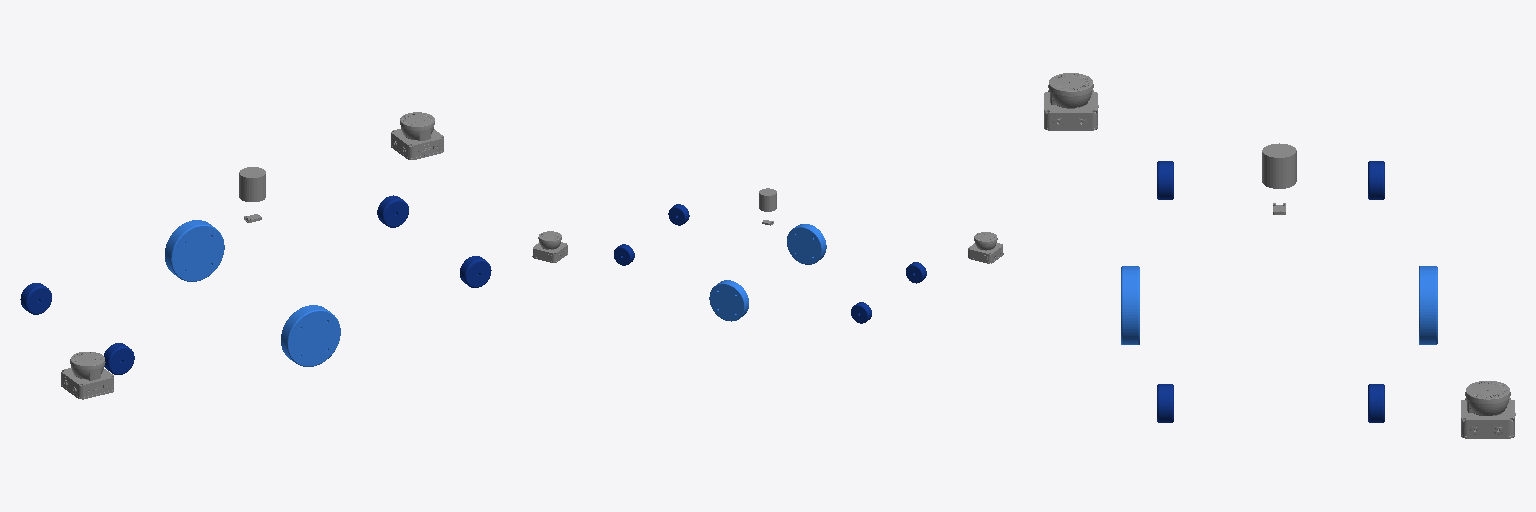
URDF robot description (my_robot_description):
<?xml version="1.0" encoding="utf-8"?>
<!-- dev_2.urdf: Corrected according to exact diagram & prompt specifications:
       - Total Length (L): 1380 mm -> x = +-0.690 m
       - Total Width (B):  790 mm  -> y = +-0.395 m
       - Drive wheel track width (left_wheel <-> right_wheel)   : 600 mm -> y = +-0.300 m
       - Idler wheel track width (left_idler <-> right_idler)   : 400 mm -> y = +-0.200 m
       - Drive-wheel centerline -> front/back idlers (x offset) : 500 mm -> x = +-0.500 m
       - Diagonal Lidars:
           * Front Lidar (Top-Left corner)    : x = +0.690 m, y = +0.395 m
           * Back Lidar  (Bottom-Right corner) : x = -0.690 m, y = -0.395 m
     Meshes rotated rpy="1.5708 0 0" (STL Y-up -> ROS Z-up).
-->
<robot name="my_robot_description">

  <!-- ================= MATERIAL DEFINITIONS ================= -->
  <material name="white">
    <color rgba="1 1 1 1"/>
  </material>

  <material name="robot_blue">
    <color rgba="0.25 0.55 0.95 1"/>
  </material>

  <material name="dark_blue">
    <color rgba="0.1 0.25 0.6 1"/>
  </material>

  <material name="sensor_grey">
    <color rgba="0.6 0.6 0.6 1"/>
  </material>

  <!-- base_link -->
  <link name="base_link">
    <inertial>
      <origin xyz="-0.00171603826927133 0.0853153097271832 -0.000800676203164504" rpy="0 0 0"/>
      <mass value="63.11417452"/>
      <inertia ixx="0.890487" ixy="-0.000988" ixz="0.023677" iyy="2.489288" iyz="-0.000110" izz="3.097446"/>
    </inertial>
    <visual>
      <origin xyz="0 0 0" rpy="1.5708 0 0"/>
      <geometry>
        <mesh filename="package://my_robot_description/meshes/base_link.STL"/>
      </geometry>
      <material name="robot_blue"/>
    </visual>
    <collision>
      <origin xyz="0 0 0" rpy="1.5708 0 0"/>
      <geometry>
        <mesh filename="package://my_robot_description/meshes/base_link.STL"/>
      </geometry>
    </collision>
  </link>

  <!-- LEFT WHEEL (Y = +0.300 m, 600mm drive track width) -->
  <link name="left_wheel">
    <inertial>
      <origin xyz="0 0 0.018" rpy="0 0 0"/>
      <mass value="2.317732"/>
      <inertia ixx="0.011516" ixy="-0.000011" ixz="0" iyy="0.006082" iyz="-0.000078" izz="0.011441"/>
    </inertial>
    <visual>
      <origin xyz="0 0 0" rpy="1.5708 0 0"/>
      <geometry>
        <mesh filename="package://my_robot_description/meshes/left_wheel.STL"/>
      </geometry>
      <material name="robot_blue"/>
    </visual>
    <collision>
      <origin xyz="0 0 0" rpy="1.5708 0 0"/>
      <geometry>
        <mesh filename="package://my_robot_description/meshes/left_wheel.STL"/>
      </geometry>
    </collision>
  </link>

  <joint name="leftwheel" type="continuous">
    <origin xyz="0 0.300 0.042531" rpy="0 0 0"/>
    <parent link="base_link"/>
    <child link="left_wheel"/>
    <axis xyz="0 1 0"/>
  </joint>
  <gazebo reference="left_wheel">
    <mu1>1.2</mu1>
    <mu2>0.85</mu2>
    <kp>100000</kp>
    <kd>300</kd>
  </gazebo>

  <!-- RIGHT WHEEL (Y = -0.300 m, 600mm drive track width) -->
  <link name="right_wheel">
    <inertial>
      <origin xyz="0 0 -0.018" rpy="0 0 0"/>
      <mass value="2.317732"/>
      <inertia ixx="0.011516" ixy="-0.000011" ixz="0" iyy="0.006082" iyz="0.000078" izz="0.011441"/>
    </inertial>
    <visual>
      <origin xyz="0 0 0" rpy="1.5708 0 0"/>
      <geometry>
        <mesh filename="package://my_robot_description/meshes/right_wheel.STL"/>
      </geometry>
      <material name="robot_blue"/>
    </visual>
    <collision>
      <origin xyz="0 0 0" rpy="1.5708 0 0"/>
      <geometry>
        <mesh filename="package://my_robot_description/meshes/right_wheel.STL"/>
      </geometry>
    </collision>
  </link>

  <joint name="rightwheel" type="continuous">
    <origin xyz="0 -0.300 0.042531" rpy="0 0 0"/>
    <parent link="base_link"/>
    <child link="right_wheel"/>
    <axis xyz="0 1 0"/>
  </joint>
  <gazebo reference="right_wheel">
    <mu1>1.2</mu1>
    <mu2>0.85</mu2>
    <kp>100000</kp>
    <kd>300</kd>
  </gazebo>

  <!-- FRONT LEFT IDLER (X = +0.500 m, Y = +0.200 m, 400mm idler track width) -->
  <link name="front_left_idler_link">
    <inertial>
      <origin xyz="0 0 0.001" rpy="0 0 0"/>
      <mass value="0.5506"/>
      <inertia ixx="0.000804" ixy="0" ixz="0.000277" iyy="0.000975" iyz="0" izz="0.000756"/>
    </inertial>
    <visual>
      <origin xyz="0 0 0" rpy="1.5708 0 0"/>
      <geometry>
        <mesh filename="package://my_robot_description/meshes/front_idler.STL"/>
      </geometry>
      <material name="dark_blue"/>
    </visual>
    <collision>
      <origin xyz="0 0 0" rpy="1.5708 0 0"/>
      <geometry>
        <mesh filename="package://my_robot_description/meshes/front_idler.STL"/>
      </geometry>
    </collision>
  </link>

  <joint name="front_left_idler" type="fixed">
    <origin xyz="0.500 0.200 0.071" rpy="0 0 0"/>
    <parent link="base_link"/>
    <child link="front_left_idler_link"/>
    <axis xyz="0 1 0"/>
  </joint>

  <!-- FRONT RIGHT IDLER (X = +0.500 m, Y = -0.200 m, 400mm idler track width) -->
  <link name="front_right_idler_link">
    <inertial>
      <origin xyz="0 0 0.001" rpy="0 0 0"/>
      <mass value="0.5506"/>
      <inertia ixx="0.000804" ixy="0" ixz="0.000277" iyy="0.000975" iyz="0" izz="0.000756"/>
    </inertial>
    <visual>
      <origin xyz="0 0 0" rpy="1.5708 0 0"/>
      <geometry>
        <mesh filename="package://my_robot_description/meshes/front_idler.STL"/>
      </geometry>
      <material name="dark_blue"/>
    </visual>
    <collision>
      <origin xyz="0 0 0" rpy="1.5708 0 0"/>
      <geometry>
        <mesh filename="package://my_robot_description/meshes/front_idler.STL"/>
      </geometry>
    </collision>
  </link>

  <joint name="front_right_idler" type="fixed">
    <origin xyz="0.500 -0.200 0.071" rpy="0 0 0"/>
    <parent link="base_link"/>
    <child link="front_right_idler_link"/>
    <axis xyz="0 1 0"/>
  </joint>

  <!-- BACK LEFT IDLER (X = -0.500 m, Y = +0.200 m, 400mm idler track width) -->
  <link name="back_left_idler_link">
    <inertial>
      <origin xyz="0 0 0.016" rpy="0 0 0"/>
      <mass value="0.5506"/>
      <inertia ixx="0.000804" ixy="0" ixz="-0.000277" iyy="0.000975" iyz="0" izz="0.000756"/>
    </inertial>
    <visual>
      <origin xyz="0 0 0" rpy="1.5708 0 0"/>
      <geometry>
        <mesh filename="package://my_robot_description/meshes/back_idler.STL"/>
      </geometry>
      <material name="dark_blue"/>
    </visual>
    <collision>
      <origin xyz="0 0 0" rpy="1.5708 0 0"/>
      <geometry>
        <mesh filename="package://my_robot_description/meshes/back_idler.STL"/>
      </geometry>
    </collision>
  </link>

  <joint name="back_left_idler" type="fixed">
    <origin xyz="-0.500 0.200 0.071" rpy="0 0 0"/>
    <parent link="base_link"/>
    <child link="back_left_idler_link"/>
    <axis xyz="0 1 0"/>
  </joint>

  <!-- BACK RIGHT IDLER (X = -0.500 m, Y = -0.200 m, 400mm idler track width) -->
  <link name="back_right_idler_link">
    <inertial>
      <origin xyz="0 0 0.016" rpy="0 0 0"/>
      <mass value="0.5506"/>
      <inertia ixx="0.000804" ixy="0" ixz="-0.000277" iyy="0.000975" iyz="0" izz="0.000756"/>
    </inertial>
    <visual>
      <origin xyz="0 0 0" rpy="1.5708 0 0"/>
      <geometry>
        <mesh filename="package://my_robot_description/meshes/back_idler.STL"/>
      </geometry>
      <material name="dark_blue"/>
    </visual>
    <collision>
      <origin xyz="0 0 0" rpy="1.5708 0 0"/>
      <geometry>
        <mesh filename="package://my_robot_description/meshes/back_idler.STL"/>
      </geometry>
    </collision>
  </link>

  <joint name="back_right_idler" type="fixed">
    <origin xyz="-0.500 -0.200 0.071" rpy="0 0 0"/>
    <parent link="base_link"/>
    <child link="back_right_idler_link"/>
    <axis xyz="0 1 0"/>
  </joint>

  <!-- FRONT LIDAR (Top-Left Diagonal Corner: X = +0.690 m, Y = +0.395 m) -->
  <link name="front_lidar">
    <inertial>
      <origin xyz="0 0 0" rpy="0 0 0"/>
      <mass value="0.6404"/>
      <inertia ixx="0.000904" ixy="0.000216" ixz="-0.000045" iyy="0.001255" iyz="0" izz="0.001536"/>
    </inertial>
    <visual>
      <origin xyz="0 0 0" rpy="1.5708 0 0"/>
      <geometry>
        <mesh filename="package://my_robot_description/meshes/front_lidar.STL"/>
      </geometry>
      <material name="sensor_grey"/>
    </visual>
    <collision>
      <origin xyz="0 0 0" rpy="1.5708 0 0"/>
      <geometry>
        <mesh filename="package://my_robot_description/meshes/front_lidar.STL"/>
      </geometry>
    </collision>
  </link>

  <joint name="frontlidar" type="fixed">
    <origin xyz="0.690 0.395 0.1087" rpy="0 0 0.7854"/>
    <parent link="base_link"/>
    <child link="front_lidar"/>
  </joint>

  <!-- BACK LIDAR (Bottom-Right Diagonal Corner: X = -0.690 m, Y = -0.395 m) -->
  <link name="back_lidar">
    <inertial>
      <origin xyz="0 0 0" rpy="0 0 0"/>
      <mass value="0.6404"/>
      <inertia ixx="0.000904" ixy="0.000216" ixz="0.000045" iyy="0.001255" iyz="0" izz="0.001536"/>
    </inertial>
    <visual>
      <origin xyz="0 0 0" rpy="1.5708 0 0"/>
      <geometry>
        <mesh filename="package://my_robot_description/meshes/back_lidar.STL"/>
      </geometry>
      <material name="sensor_grey"/>
    </visual>
    <collision>
      <origin xyz="0 0 0" rpy="1.5708 0 0"/>
      <geometry>
        <mesh filename="package://my_robot_description/meshes/back_lidar.STL"/>
      </geometry>
    </collision>
  </link>

  <joint name="backlidar" type="fixed">
    <origin xyz="-0.690 -0.395 0.1087" rpy="0 0 -2.3562"/>
    <parent link="base_link"/>
    <child link="back_lidar"/>
  </joint>

  <!-- IMU SENSOR -->
  <link name="imu_sensor">
    <inertial>
      <origin xyz="0 0 0" rpy="0 0 0"/>
      <mass value="0.0031"/>
      <inertia ixx="0.0000002" ixy="0" ixz="0" iyy="0.0000006" iyz="0" izz="0.0000004"/>
    </inertial>
    <visual>
      <origin xyz="0 0 0" rpy="1.5708 0 0"/>
      <geometry>
        <mesh filename="package://my_robot_description/meshes/imu_sensor.STL"/>
      </geometry>
      <material name="sensor_grey"/>
    </visual>
    <collision>
      <origin xyz="0 0 0" rpy="1.5708 0 0"/>
      <geometry>
        <mesh filename="package://my_robot_description/meshes/imu_sensor.STL"/>
      </geometry>
    </collision>
  </link>

  <joint name="imusensor" type="fixed">
    <origin xyz="0.00020298 0.000029087 0.240" rpy="0 0 0"/>
    <parent link="base_link"/>
    <child link="imu_sensor"/>
  </joint>

  <!-- LIVOX MID-360 LIDAR -->
  <link name="livox_frame">
    <inertial>
      <origin xyz="0 0 0" rpy="0 0 0"/>
      <mass value="0.43"/>
      <inertia ixx="0.0001" ixy="0" ixz="0" iyy="0.0001" iyz="0" izz="0.0001"/>
    </inertial>
    <visual>
      <origin xyz="0 0 0" rpy="0 0 0"/>
      <geometry>
        <cylinder radius="0.0325" length="0.065"/>
      </geometry>
      <material name="sensor_grey"/>
    </visual>
    <collision>
      <origin xyz="0 0 0" rpy="0 0 0"/>
      <geometry>
        <cylinder radius="0.0325" length="0.065"/>
      </geometry>
    </collision>
  </link>

  <joint name="livox_joint" type="fixed">
    <origin xyz="0.0 0.0 0.334" rpy="0 0 0"/>
    <parent link="base_link"/>
    <child link="livox_frame"/>
  </joint>

  <gazebo reference="base_link">
    <visual>
      <geometry>
        <mesh filename="package://my_robot_description/meshes/base_link.STL"/>
      </geometry>
      <material>
        <ambient>0.15 0.55 0.95 1</ambient>
        <diffuse>0.25 0.55 0.95 1</diffuse>
      </material>
    </visual>
  </gazebo>

</robot>

--- Facts derived from the render (not from the file) ---
3 views of the same robot in one strip: view 1: azimuth 30°, elevation 25°; view 2: azimuth 150°, elevation 25°; view 3: azimuth 270°, elevation 25° (orthographic).
Model my_robot_description with 11 links and 10 joints (2 continuous, 8 fixed), rooted at base_link, posed every joint at zero.
Visible links, largest first — view 1: right_wheel, left_wheel, front_lidar, back_lidar, livox_frame, front_left_idler_link, front_right_idler_link, back_left_idler_link, back_right_idler_link; view 2: right_wheel, left_wheel, front_lidar, back_lidar; view 3: front_lidar, back_lidar, left_wheel, right_wheel, livox_frame, front_left_idler_link, front_right_idler_link, back_left_idler_link, back_right_idler_link.
Boxes of the visible links, x1=… form: right_wheel: x1=281, y1=305, x2=340, y2=366; left_wheel: x1=165, y1=220, x2=224, y2=281; front_lidar: x1=391, y1=112, x2=443, y2=159; back_lidar: x1=61, y1=352, x2=113, y2=399; livox_frame: x1=239, y1=167, x2=265, y2=201; front_left_idler_link: x1=377, y1=195, x2=408, y2=227; front_right_idler_link: x1=460, y1=256, x2=491, y2=287; back_left_idler_link: x1=20, y1=283, x2=51, y2=314; back_right_idler_link: x1=104, y1=343, x2=134, y2=374; right_wheel: x1=787, y1=224, x2=826, y2=264; left_wheel: x1=709, y1=280, x2=748, y2=321; front_lidar: x1=532, y1=231, x2=567, y2=262; back_lidar: x1=968, y1=232, x2=1003, y2=263; front_lidar: x1=1461, y1=381, x2=1515, y2=438; back_lidar: x1=1044, y1=73, x2=1098, y2=130; left_wheel: x1=1419, y1=266, x2=1437, y2=344; right_wheel: x1=1121, y1=266, x2=1139, y2=344; livox_frame: x1=1262, y1=143, x2=1296, y2=188; front_left_idler_link: x1=1368, y1=384, x2=1384, y2=422; front_right_idler_link: x1=1157, y1=384, x2=1173, y2=422; back_left_idler_link: x1=1368, y1=161, x2=1384, y2=199; back_right_idler_link: x1=1157, y1=161, x2=1173, y2=199.
Size in the robot's own frame: 1.49 by 0.8925 by 0.399 metres.
9 mesh visuals loaded from 8 distinct referenced files (7 binary STL); not drawn: 1 (reference not matched to a file when rendering).
